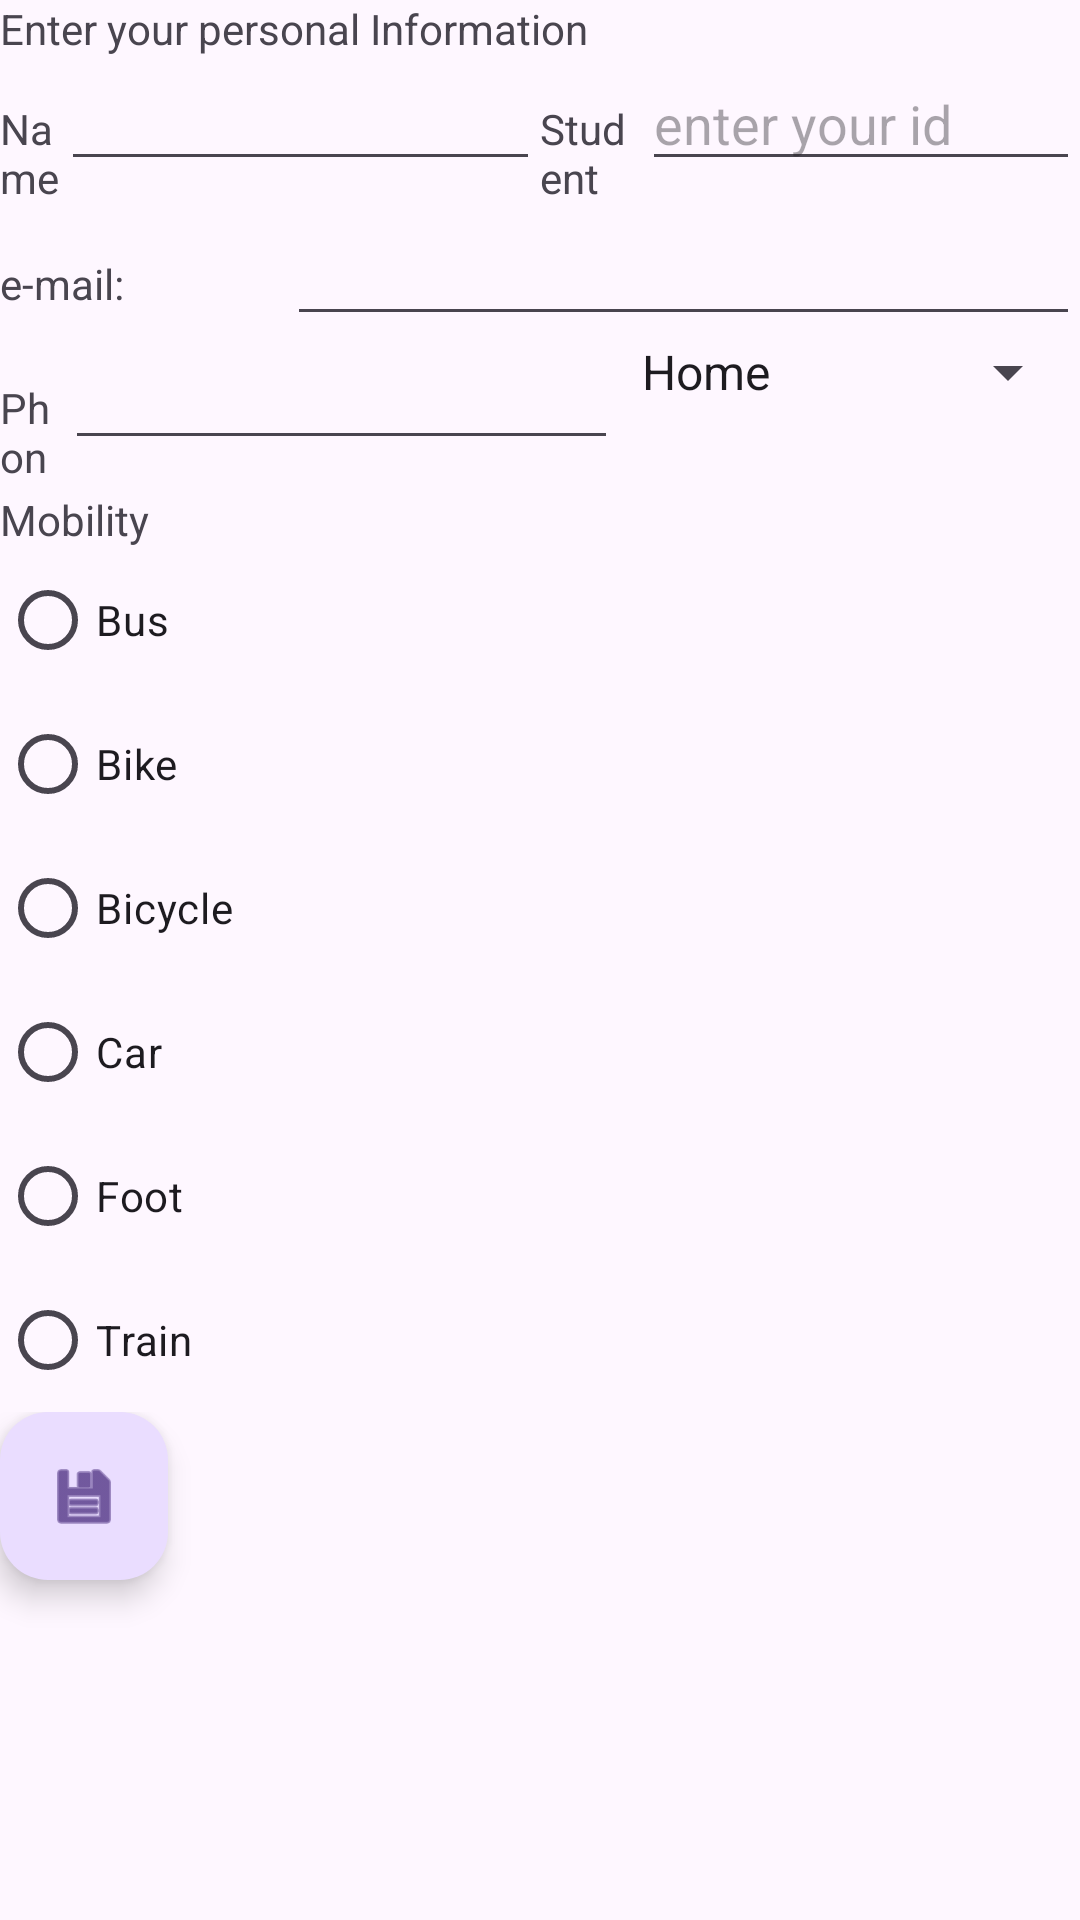

Point at icon controls on the screen. Image size 1080 x 1920, points as [x,y].
save: [84,1496]
